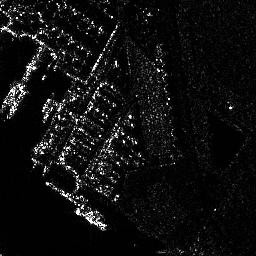ship: (74, 207, 107, 233), (6, 88, 28, 120)
